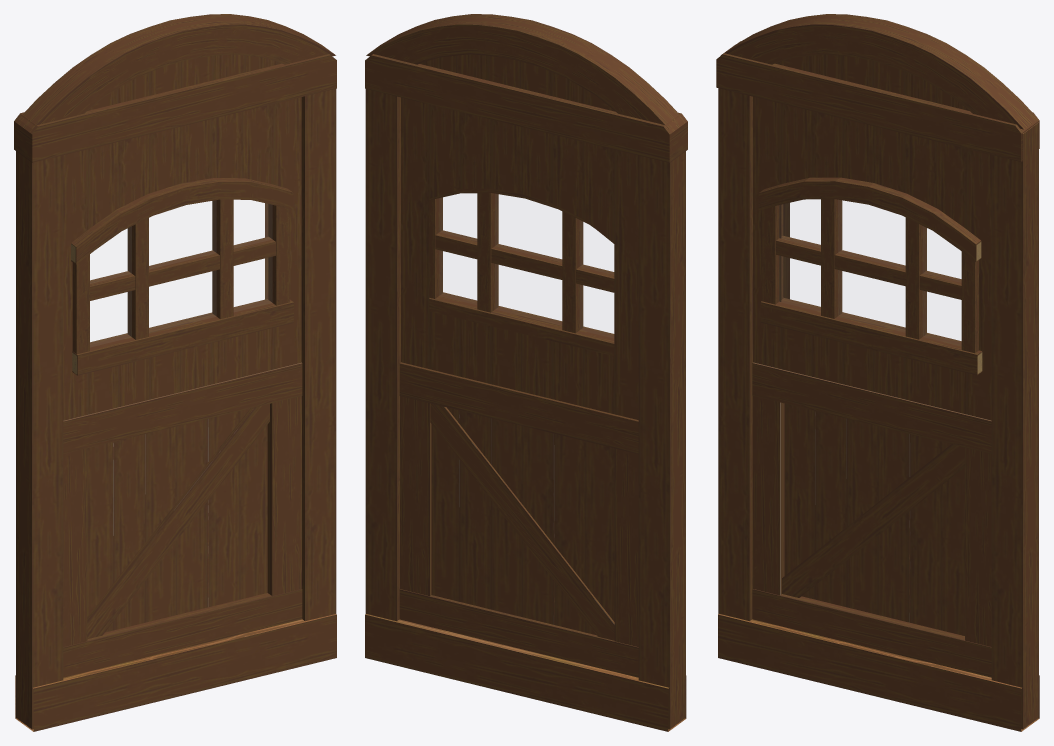
File: Door_1_Round.glb
3 renders of one model, left to right at view 1: azimuth 30°, elevation 25°; view 2: azimuth 150°, elevation 25°; view 3: azimuth 330°, elevation 25°, orthographic.
Visible parts, largest first — view 1: Door_1_Round; view 2: Door_1_Round; view 3: Door_1_Round.
Part boxes in pixels (left/top/right/bottom): Door_1_Round: left=14, top=14, right=336, bottom=731; Door_1_Round: left=365, top=14, right=687, bottom=731; Door_1_Round: left=716, top=14, right=1039, bottom=731.
Bounding box in the file's own units: 1.12 × 2.32 × 0.1207.
Materials: 2 (1 with a texture image).
